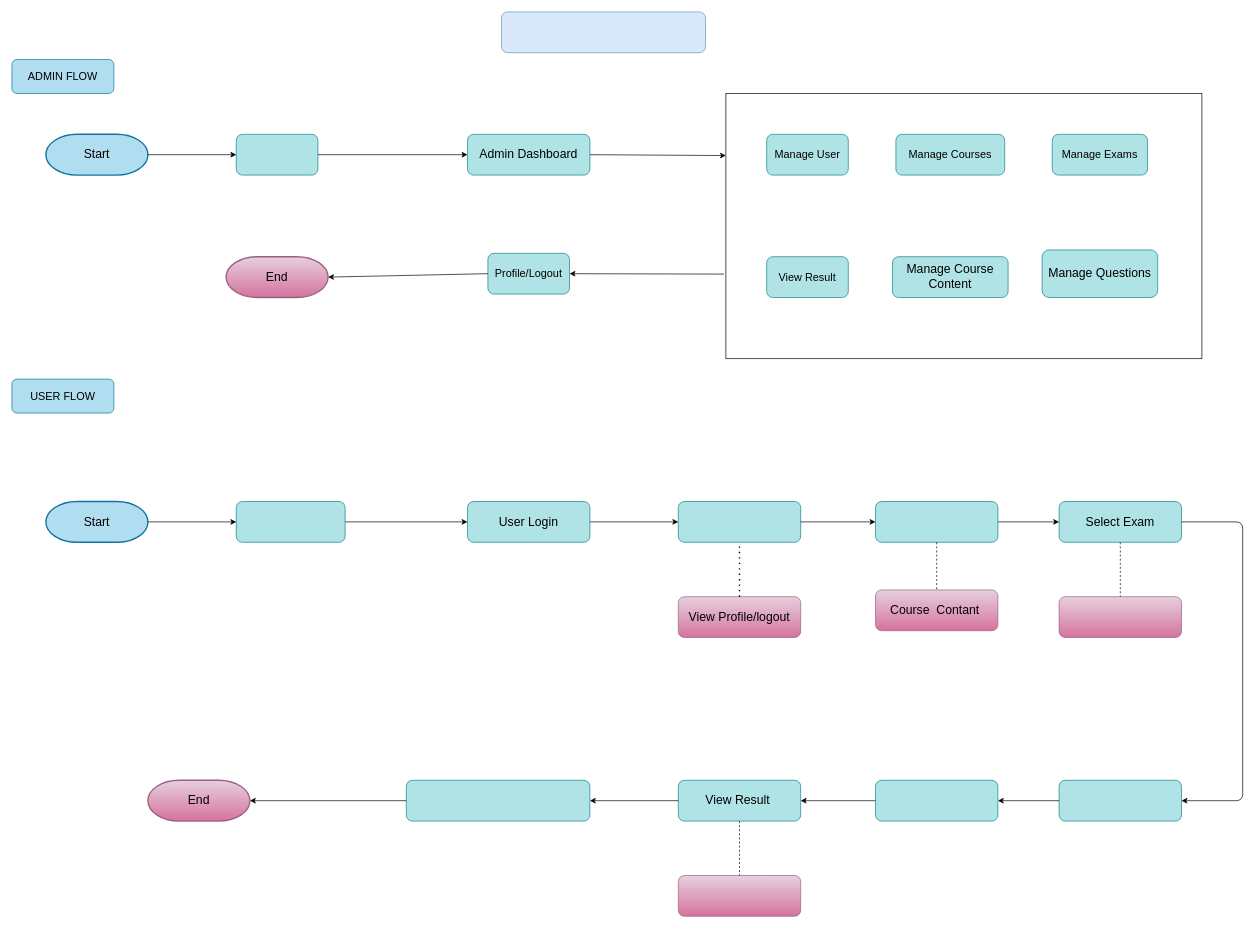
This 1260x934 diagram has some shape labels left out. The shapes that lost their labels are listed below. From the top down, each one's centre as x and y in pixels, then its label:
pixel 603 32: User Flow Diagram
pixel 277 154: Admin Login
pixel 290 521: User Register
pixel 739 521: User Dashboard
pixel 936 521: Courses
pixel 1120 617: View Exam
pixel 498 800: View Solution/Dashboard
pixel 936 800: Submit Exam
pixel 1120 800: Attempt Exam
pixel 739 895: View Results History
